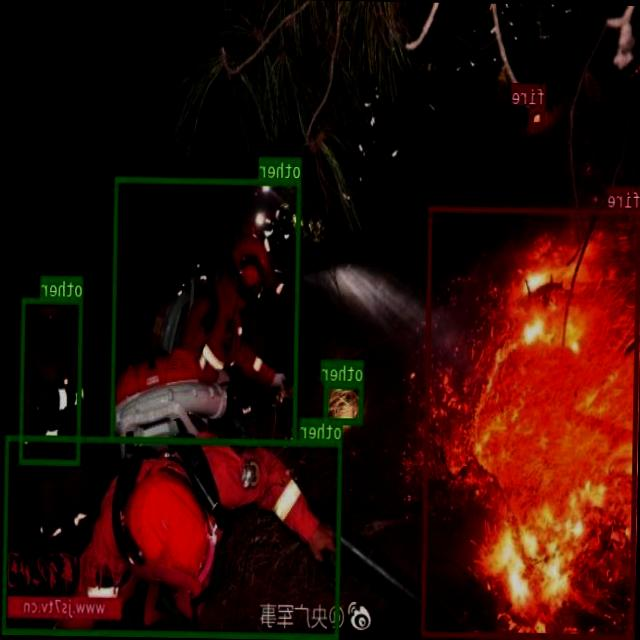fire: (422, 203, 640, 639), (530, 105, 546, 126)
